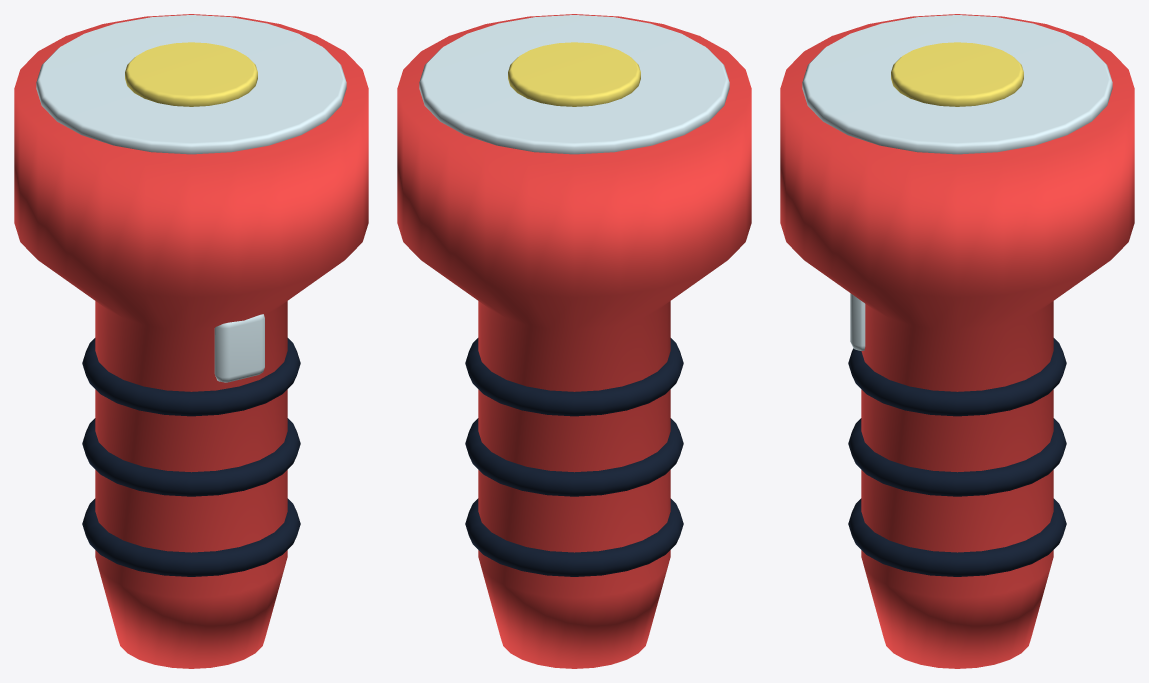
The model's file is flashlight.fbx.
3 views of the same model, side by side, from view 1: azimuth 30°, elevation 25°; view 2: azimuth 150°, elevation 25°; view 3: azimuth 270°, elevation 25° (orthographic).
Visible parts, largest first — view 1: flashlight; view 2: flashlight; view 3: flashlight.
Part boxes in pixels (box(x1,y1,x2,y2)): flashlight: box(14, 14, 368, 668); flashlight: box(397, 14, 751, 668); flashlight: box(780, 14, 1134, 668).
Size of the model in its own units: 56.47 by 100 by 56.47.
1 material, 1 textured.
